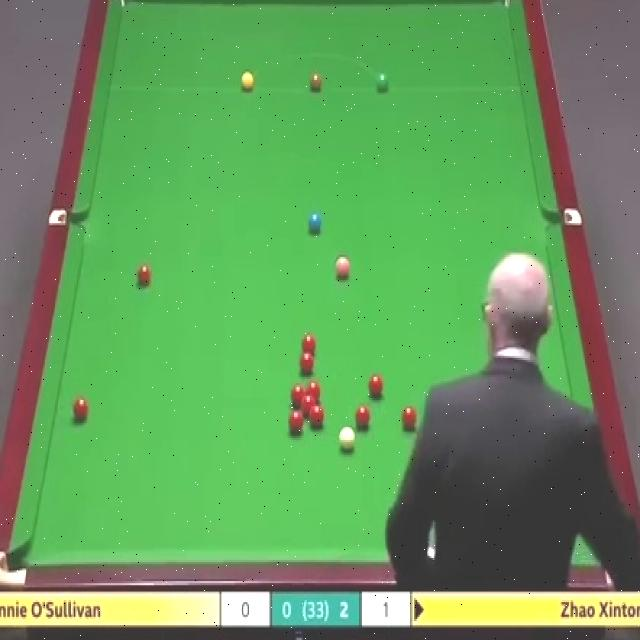blue-ball: (308, 210, 322, 237)
brown-ball: (309, 72, 322, 92)
green-ball: (376, 72, 390, 91)
pink-ball: (333, 253, 352, 282)
red-ball: (72, 394, 90, 428), (399, 405, 419, 433), (367, 371, 384, 401), (354, 404, 371, 434), (305, 380, 322, 404), (288, 411, 304, 436), (299, 352, 315, 377), (136, 262, 151, 288), (309, 404, 324, 429), (291, 383, 306, 408), (302, 396, 317, 417), (300, 336, 316, 354)
white-ball: (340, 427, 354, 453)
yellow-ball: (240, 72, 254, 92)
